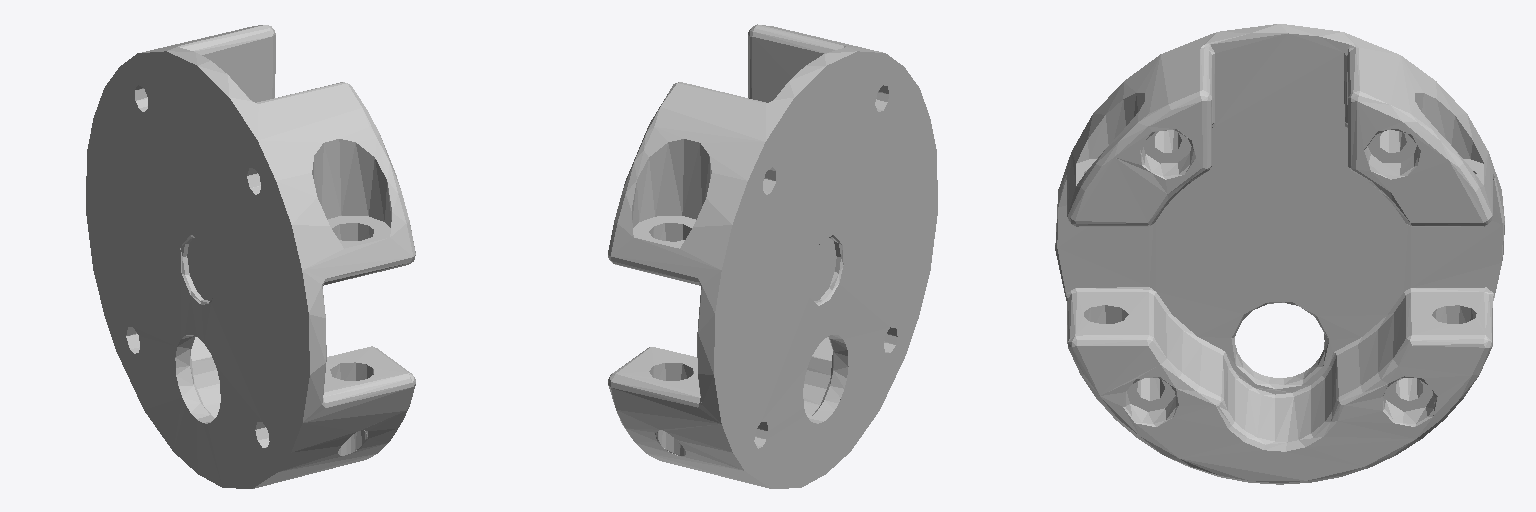
The picture shows the model from 3 angles: view 1: azimuth 30°, elevation 25°; view 2: azimuth 150°, elevation 25°; view 3: azimuth 270°, elevation 25°; orthographic projection.
Visible parts, largest first — view 1: RS1-124.001; view 2: RS1-124.001; view 3: RS1-124.001.
Boxes of the visible parts, box(x1,y1,x2,y2) form: RS1-124.001: box(86, 25, 415, 488); RS1-124.001: box(608, 24, 937, 488); RS1-124.001: box(1055, 24, 1504, 484).
Bounding box in the file's own units: 0.0119 × 0.0401 × 0.04.